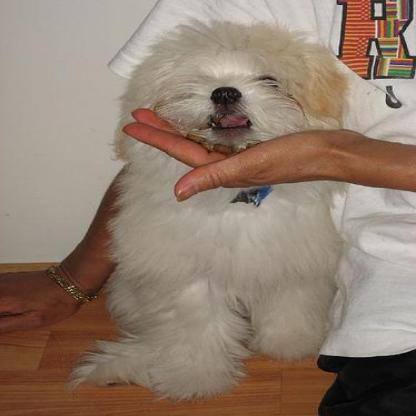Pomeranian: (67, 20, 350, 403)
